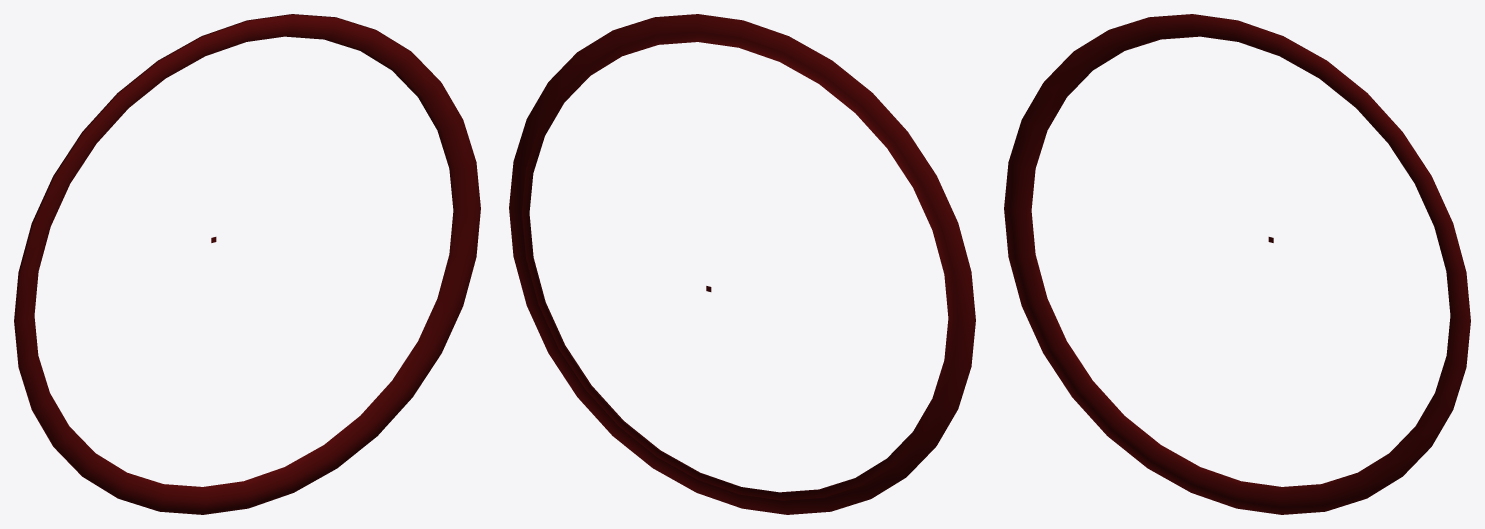
Rendered from MeshPan_26_0_GeomSubset_1.obj.
3 views of the same model, side by side, from view 1: azimuth 30°, elevation 25°; view 2: azimuth 150°, elevation 25°; view 3: azimuth 330°, elevation 25° (orthographic).
Visible parts, largest first — view 1: MeshPan_26_0_GeomSubset_1; view 2: MeshPan_26_0_GeomSubset_1; view 3: MeshPan_26_0_GeomSubset_1.
Part boxes in pixels (<box>): MeshPan_26_0_GeomSubset_1: <box>14,14,480,514</box>; MeshPan_26_0_GeomSubset_1: <box>509,14,975,514</box>; MeshPan_26_0_GeomSubset_1: <box>1004,14,1470,514</box>.
Bounding box in the file's own units: 0.2625 × 0.2625 × 0.0342.
